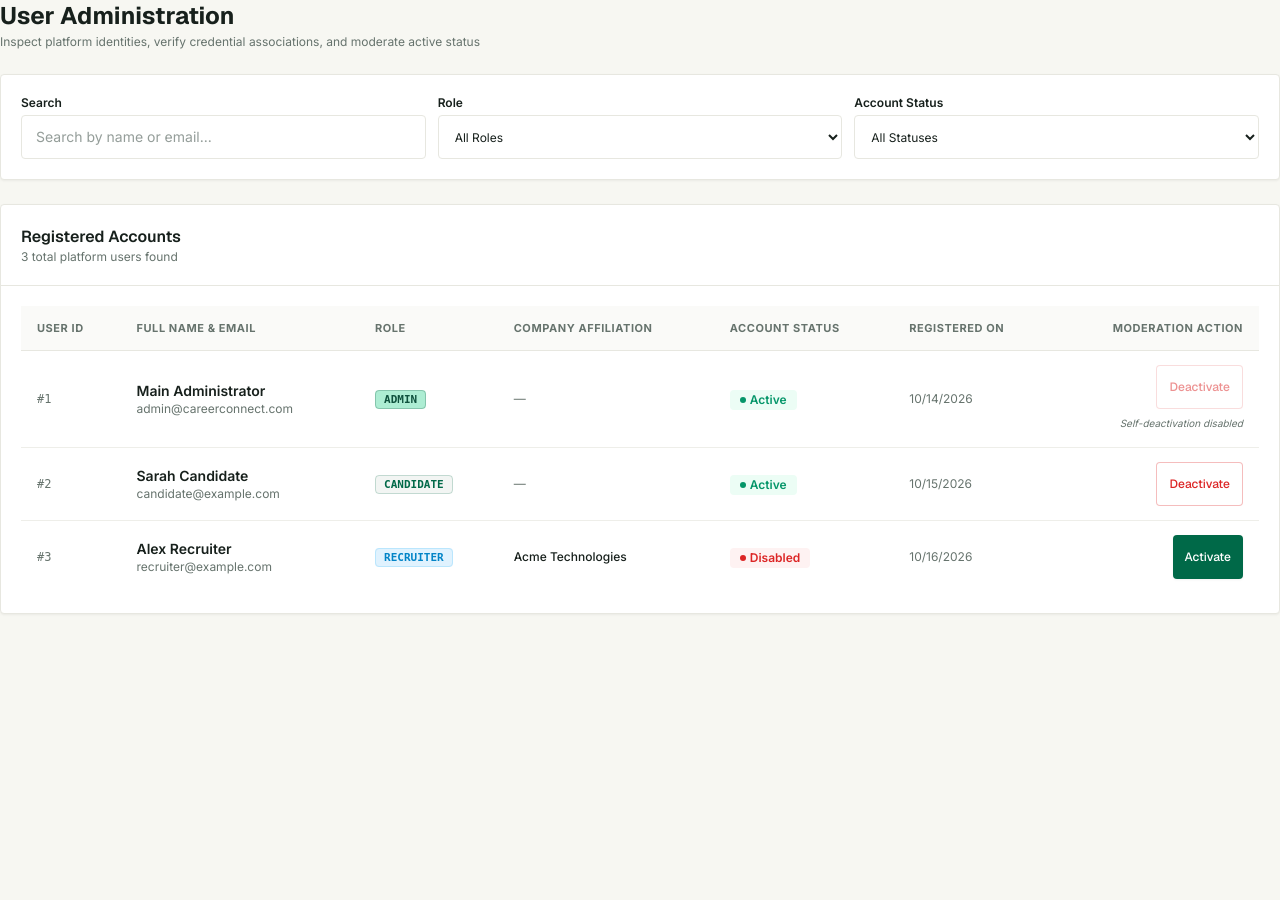
Test: AdminUsersPage Component › displays real backend error message when mutation fails
Expected: the text "Sarah Candidate" is shown, left=136, top=467, right=248, bottom=484
What coordinates should you click on to do the following:
click the button "Deactivate" in the row of "Sarah Candidate"
I would click on:
 (1200, 484)
Its box is left=1156, top=462, right=1243, bottom=506.
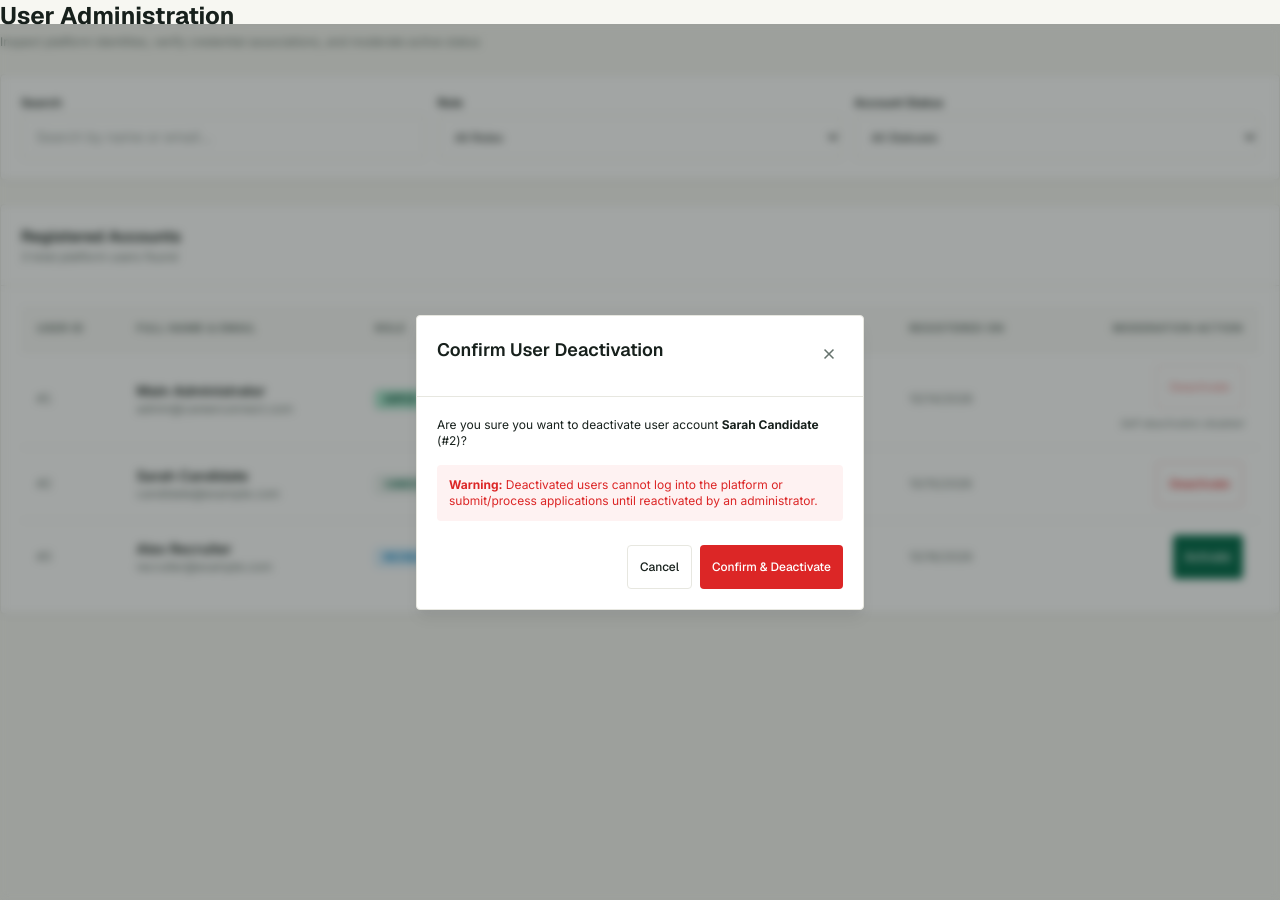
What coordinates should you click on to do the following:
click the button "Confirm & Deactivate"
I would click on:
 (772, 566)
Its box is left=700, top=544, right=843, bottom=588.
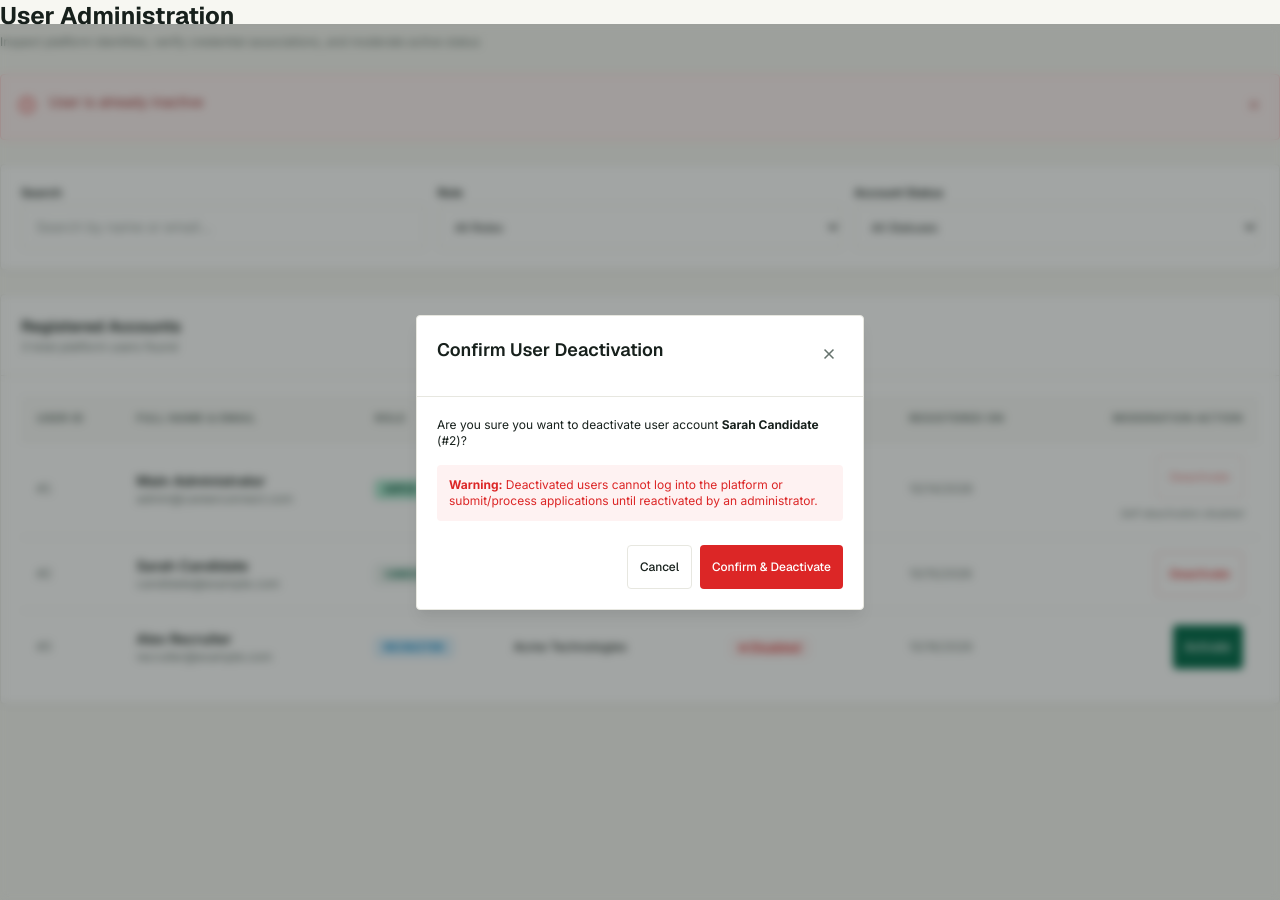
Expected: the text "User is already inactive" is shown, left=49, top=93, right=203, bottom=110
